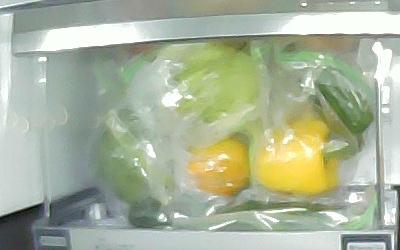broccoli_vinyl: (90, 110, 177, 227)
cucumber_vinyl: (129, 196, 367, 227)
lettuce_vinyl: (151, 43, 261, 125)
paprika_vinyl: (251, 119, 352, 196), (298, 64, 374, 135)
persimmon_vinyl: (186, 131, 251, 196)
